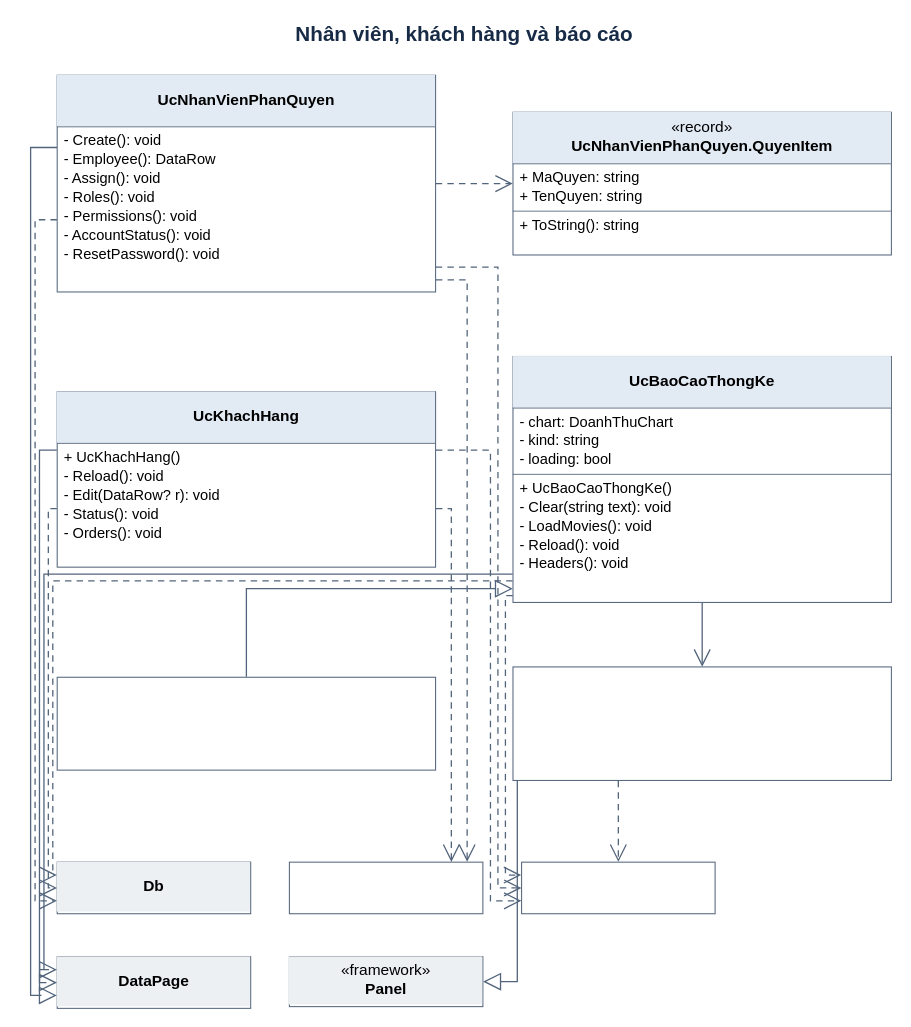
Image size: 911x1027. Some labels were removed from this diagram. Here are the shapes that lost their labels. From the top down, the centre of each, then its label:
At point (246, 723): "UcTongQuan + UcTongQuan()".
At point (701, 723): "DoanhThuChart ~ DoanhThuChart() # OnPaint(PaintEventArgs e): void".
At point (385, 887): "EditDialog".
At point (618, 887): "AdminUi".
